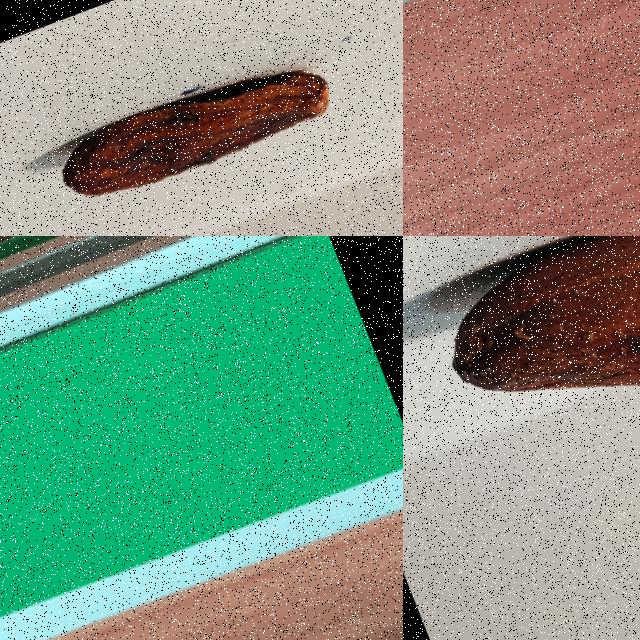Fine_cocoabeans: (403, 236, 639, 521)
Flat_cocoabeans: (2, 0, 389, 235), (0, 326, 93, 569)
